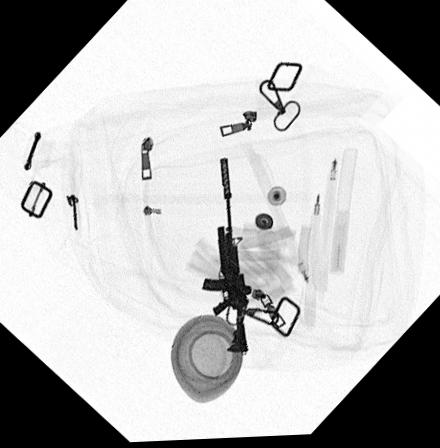Gun: (202, 157, 255, 355)
